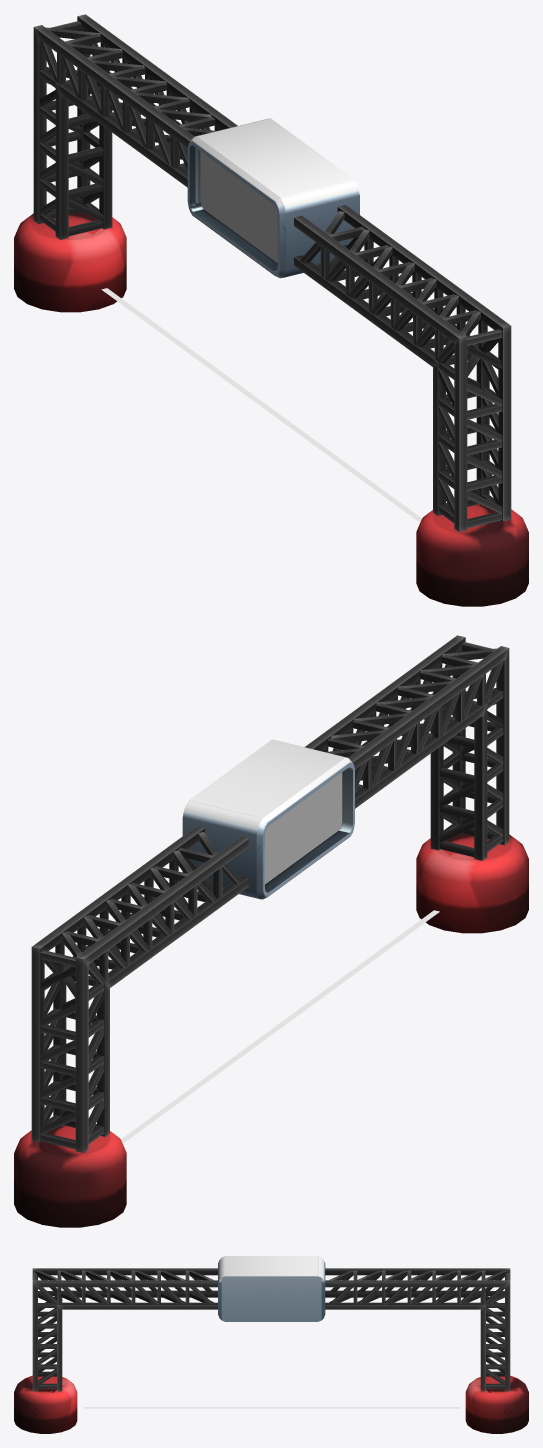
The model's file is Am_Goal.FBX.
3 renders of one model, top to bottom at view 1: azimuth 30°, elevation 25°; view 2: azimuth 150°, elevation 25°; view 3: azimuth 270°, elevation 25°, orthographic. The views are drawn at different scales.
Visible parts, largest first — view 1: Am_Goal; view 2: Am_Goal; view 3: Am_Goal.
Boxes of the visible parts, x1,y1,x2,y2 form: Am_Goal: [14, 14, 528, 606]; Am_Goal: [14, 635, 528, 1227]; Am_Goal: [14, 1256, 528, 1433].
Size of the model in its own units: 504 by 4162 by 1388.
